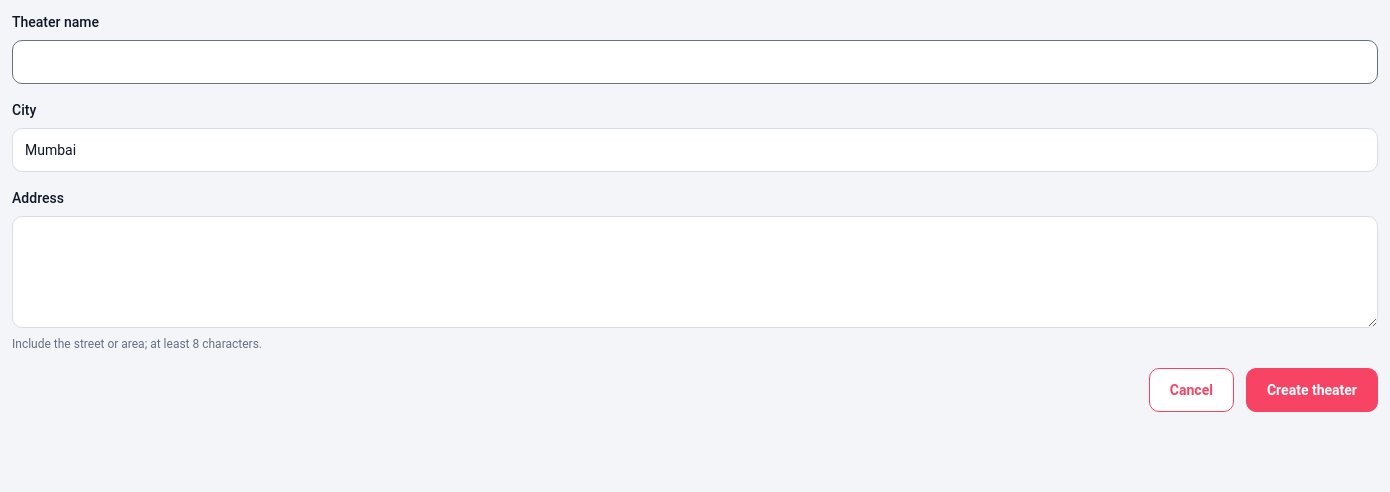
Scenario: TheaterForm › renders a failed request in the modal instead of leaving an unhandled rejection
The width and height of the screenshot is (1390, 492).
Type "Silver City" into the field labelled "Theater name" at (695, 62), box [12,40,1378,84]
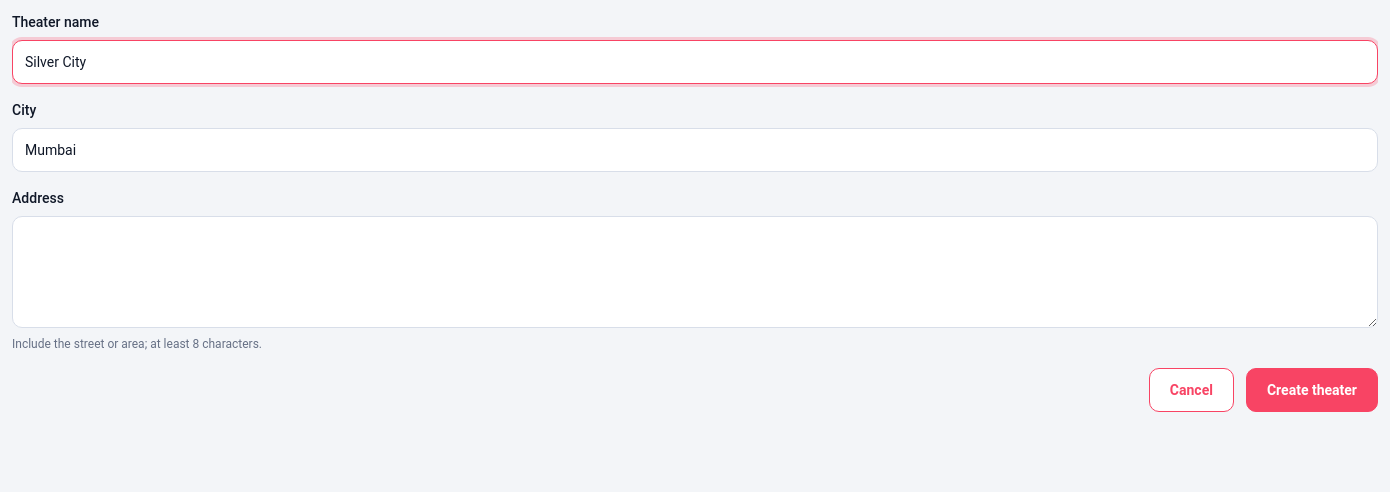
Type "Andheri West, Mumbai" into the text box labelled "Address" at (695, 272), box [12,216,1378,328]
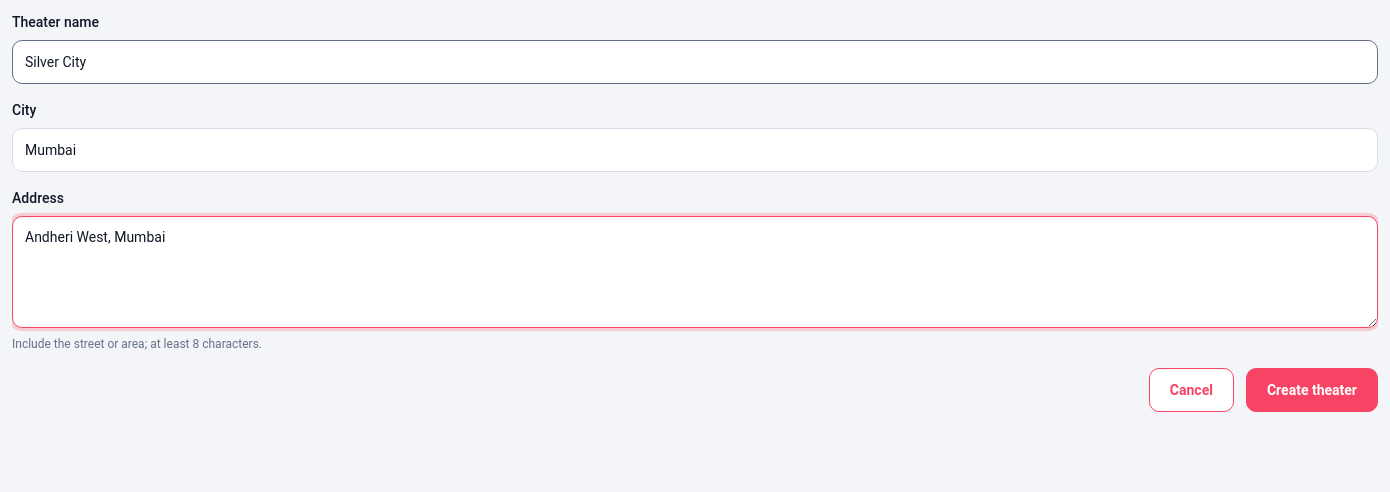
Click the button "Create theater" at (1312, 390), box [1246,368,1378,412]
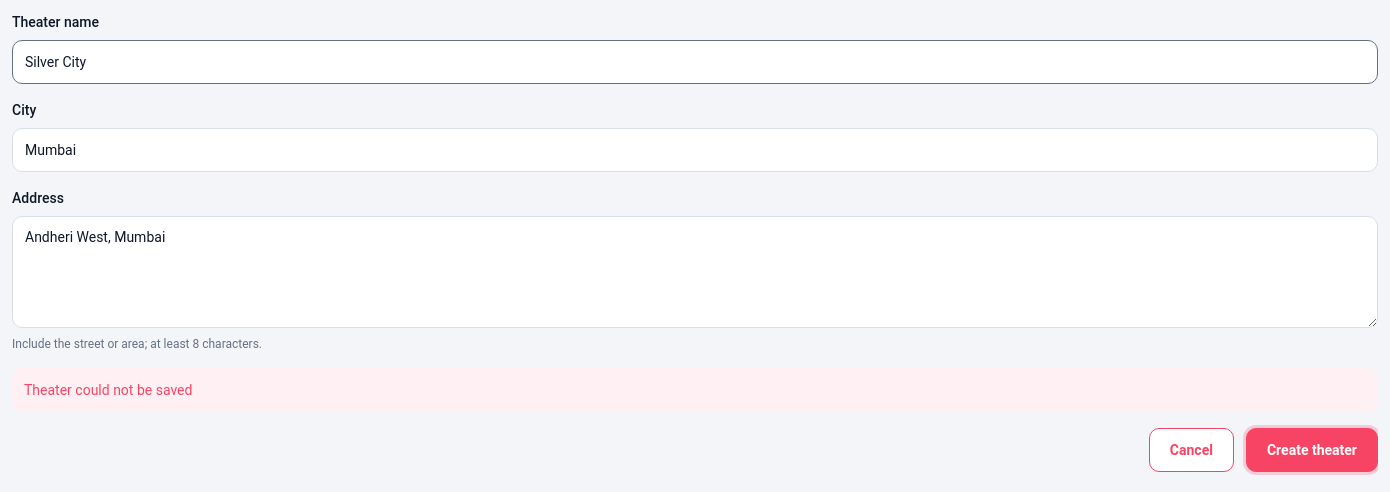
Check: the message reads "Theater could not be saved", box [24,382,192,398]
